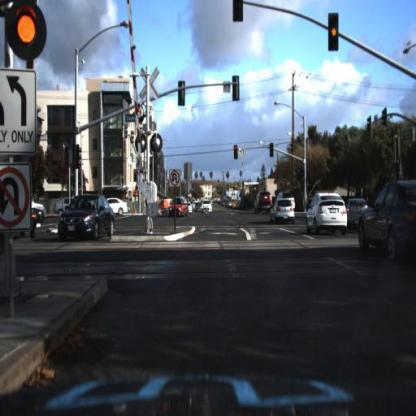car: (356, 178, 416, 270), (52, 192, 118, 248), (56, 194, 119, 245), (302, 187, 354, 248), (304, 189, 350, 235), (268, 200, 299, 236), (60, 194, 95, 222), (272, 197, 297, 224), (168, 197, 192, 224), (252, 189, 274, 217), (256, 190, 278, 213), (278, 188, 297, 204), (200, 198, 214, 216), (278, 190, 297, 202), (194, 198, 201, 214)
trafficLight: (328, 13, 340, 51), (232, 140, 240, 165), (269, 140, 276, 158)
trafficLight-Green: (299, 163, 307, 183)
trafficLight-Red: (1, 1, 70, 67)
trafficLight-Yellow: (324, 9, 345, 58)
